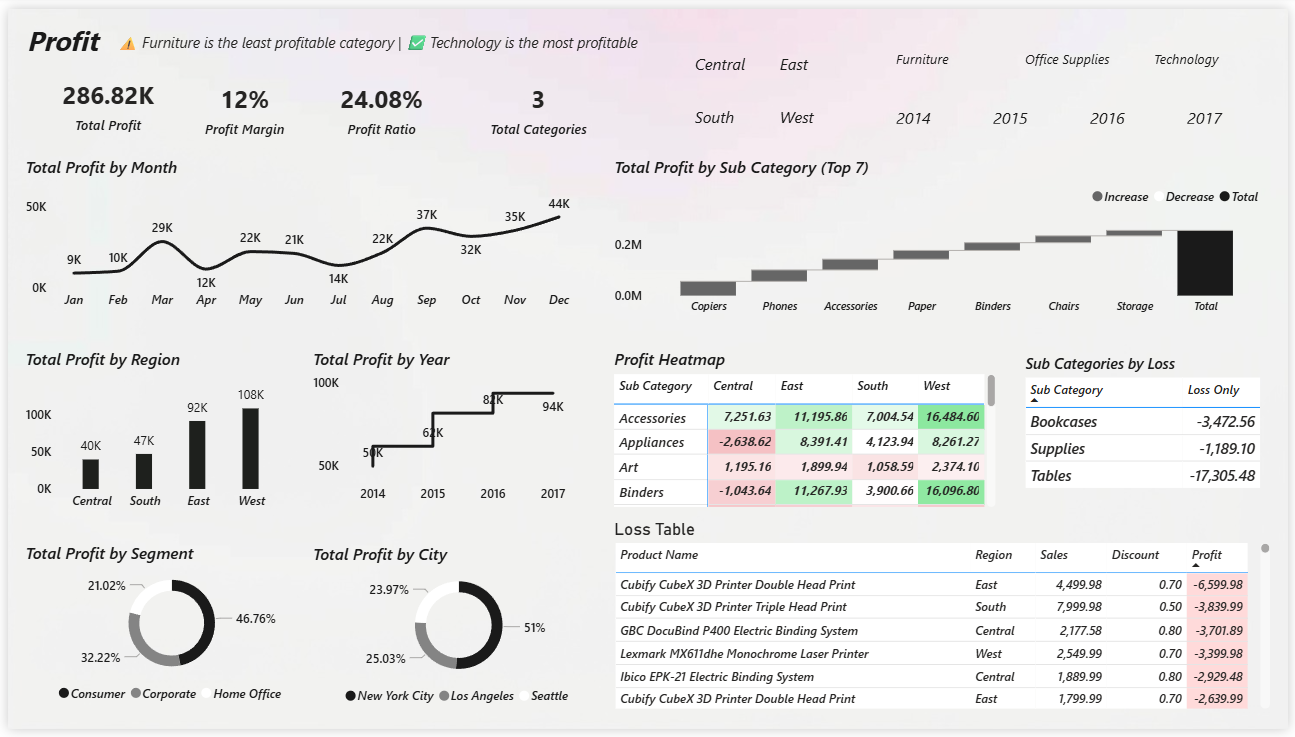

The page's visual inventory and layout, read from the dashboard file:
{"tool":"powerbi","page":{"name":"Profit","canvas":[1280,720],"ordinal":3},"visuals":[{"type":"actionButton","box":[1194.3,655.7,85.7,64.3],"z":0},{"type":"lineChart","fields":{"Y":["_Measures.Total Profit"],"Category":["Superstore.Month"]},"box":[12.9,145.7,561.4,162.9],"z":1000},{"type":"clusteredColumnChart","fields":{"Category":["Superstore.Region"],"Y":["_Measures.Total Profit"]},"box":[12.9,338.6,267.1,171.4],"z":2000},{"type":"donutChart","fields":{"Category":["Superstore.Segment"],"Y":["_Measures.Total Profit"]},"box":[12.9,532.9,302.9,170],"z":3000},{"type":"lineChart","fields":{"Category":["Superstore.Year"],"Y":["_Measures.Total Profit"]},"box":[300,338.6,274.3,164.3],"z":4000},{"type":"donutChart","fields":{"Y":["_Measures.Total Profit"],"Category":["Superstore.City"]},"box":[299.7,533.3,301.9,171.5],"z":5000},{"type":"card","fields":{"Values":["_Measures.Total Profit"]},"box":[25.8,57.7,148.2,76.8],"z":6000},{"type":"card","fields":{"Values":["_Measures.Profit Margin"]},"box":[180.1,62.9,113.9,75.5],"z":7000},{"type":"card","fields":{"Values":["_Measures.Profit Ratio"]},"box":[302.2,62.9,142.7,75.5],"z":8000},{"type":"pivotTable","title":"Profit Heatmap","fields":{"Rows":["Superstore.Sub_Category"],"Columns":["Superstore.Region"],"Values":["_Measures.Total Profit"]},"box":[601.4,338.6,391.4,164.3],"z":9000},{"type":"tableEx","title":"Loss Table","fields":{"Values":["Superstore.Product_Name","Superstore.Region","Superstore.Sales","Superstore.Discount","Superstore.Profit"]},"box":[601.6,510,665.5,194.9],"z":10000},{"type":"waterfallChart","title":"Total Profit by Sub Category (Top 7)","fields":{"Category":["Superstore.Sub_Category"],"Y":["_Measures.Total Profit"]},"box":[601.4,145.7,658.6,168.6],"z":11000},{"type":"textbox","box":[13.7,8.2,102.9,54.9],"z":12000},{"type":"advancedSlicerVisual","fields":{"Values":["Superstore.Region"]},"box":[668.3,24.7,172.9,109.8],"z":13000},{"type":"advancedSlicerVisual","fields":{"Values":["Superstore.Category"]},"box":[870.4,22.9,390,55.7],"z":14000},{"type":"advancedSlicerVisual","fields":{"Values":["Superstore.Year"]},"box":[870.4,78.6,390,54.3],"z":15000},{"type":"tableEx","fields":{"Values":["Superstore.Sub_Category","_Measures.Loss Only"]},"box":[1011,363.1,255.8,133.9],"z":16000},{"type":"textbox","box":[1012.9,338.6,181.4,38.6],"z":17000},{"type":"card","fields":{"Values":["_Measures.Profit Insight"]},"box":[100,21.4,540,28.6],"z":18000},{"type":"card","fields":{"Values":["_Measures.Total Categories"]},"box":[460,62.9,141.4,75.7],"z":19000}]}

Visuals, with their boxes in screenshot pixels (x1, y1, x2, y2), scaled from the page's 1280x720 canvas onto the 1295x737 screenshot:
actionButton: l=1208, t=671, r=1294, b=736
lineChart - _Measures.Total Profit x Superstore.Month: l=13, t=149, r=581, b=316
clusteredColumnChart - Superstore.Region x _Measures.Total Profit: l=13, t=347, r=283, b=522
donutChart - Superstore.Segment x _Measures.Total Profit: l=13, t=545, r=320, b=719
lineChart - Superstore.Year x _Measures.Total Profit: l=304, t=347, r=581, b=515
donutChart - _Measures.Total Profit x Superstore.City: l=303, t=546, r=609, b=721
card - _Measures.Total Profit: l=26, t=59, r=176, b=138
card - _Measures.Profit Margin: l=182, t=64, r=297, b=142
card - _Measures.Profit Ratio: l=306, t=64, r=450, b=142
"Profit Heatmap" pivotTable: l=608, t=347, r=1004, b=515
"Loss Table" tableEx: l=609, t=522, r=1282, b=722
"Total Profit by Sub Category (Top 7)" waterfallChart: l=608, t=149, r=1275, b=322
textbox: l=14, t=8, r=118, b=65
advancedSlicerVisual - Superstore.Region: l=676, t=25, r=851, b=138
advancedSlicerVisual - Superstore.Category: l=881, t=23, r=1275, b=80
advancedSlicerVisual - Superstore.Year: l=881, t=80, r=1275, b=136
tableEx - Superstore.Sub_Category x _Measures.Loss Only: l=1023, t=372, r=1282, b=509
textbox: l=1025, t=347, r=1208, b=386
card - _Measures.Profit Insight: l=101, t=22, r=648, b=51
card - _Measures.Total Categories: l=465, t=64, r=608, b=142
